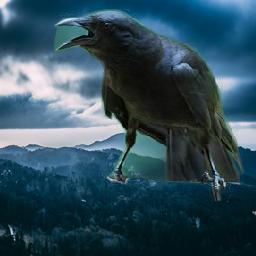Crow: (54, 9, 244, 201)
